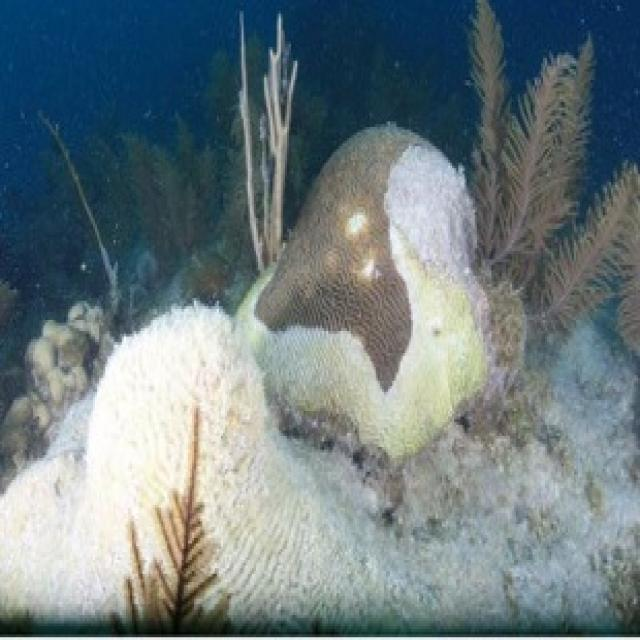Coral: (0, 298, 401, 640), (234, 120, 492, 458)
